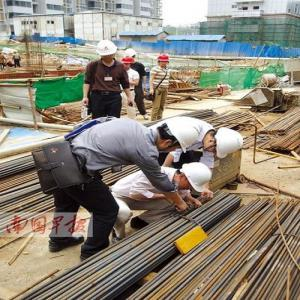red: (157, 54, 171, 69), (121, 58, 135, 72)
white: (154, 117, 199, 157), (202, 125, 247, 160), (174, 160, 213, 196), (95, 39, 119, 63)
